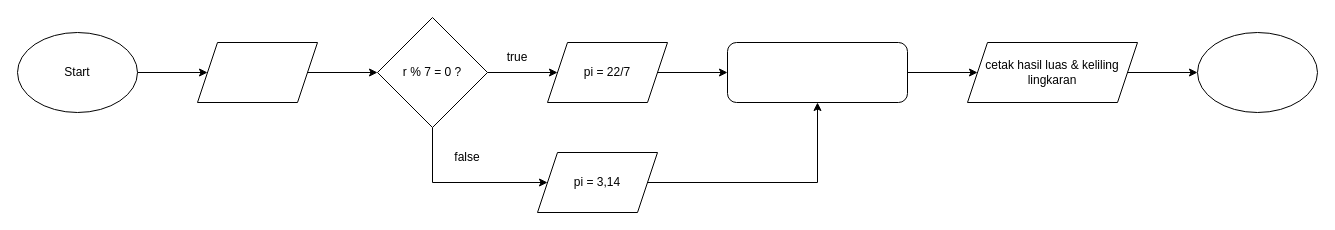
The diagram is 1335 pixels wide and 230 high, and some of its shapes have lost their labels. Each missing label, with the centre of its shape:
End: [1257,72]
int r: [257,72]
luas = pi x r r keliling = 2 x pi r: [817,72]
